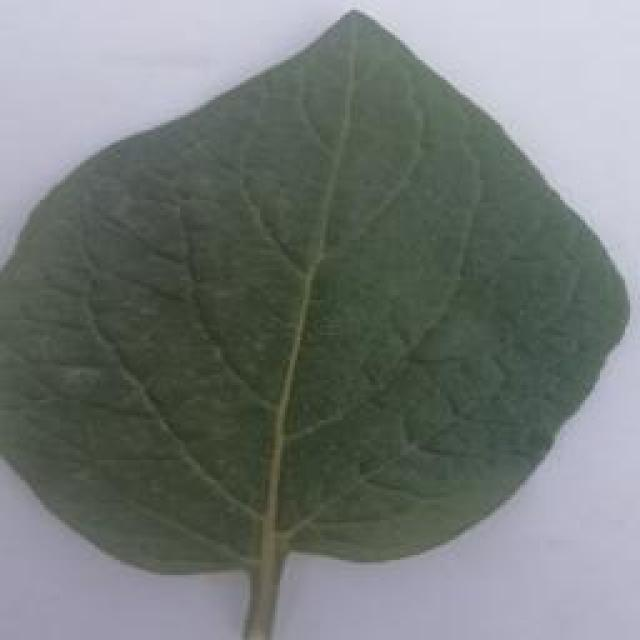Potato_Healthy: (4, 6, 621, 621)
